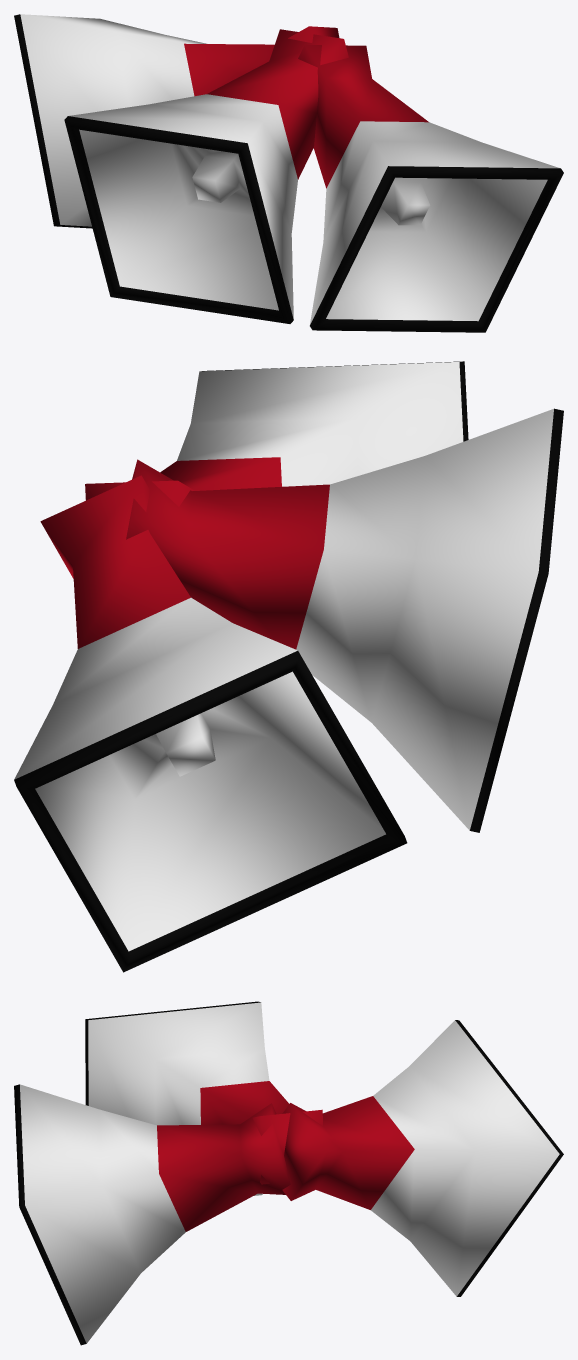
The model's file is Megaphone.fbx.
The picture shows the model from 3 angles, top to bottom: view 1: azimuth 30°, elevation 25°; view 2: azimuth 150°, elevation 25°; view 3: azimuth 270°, elevation 25°; orthographic projection. The views are drawn at different scales.
Visible parts, largest first — view 1: Cube.002; view 2: Cube.002; view 3: Cube.002.
Boxes of the visible parts, x1,y1,x2,y2 form: Cube.002: [14, 14, 563, 332]; Cube.002: [14, 361, 563, 972]; Cube.002: [14, 1001, 563, 1345].
Size of the model in its own units: 106 by 151 by 71.46.
